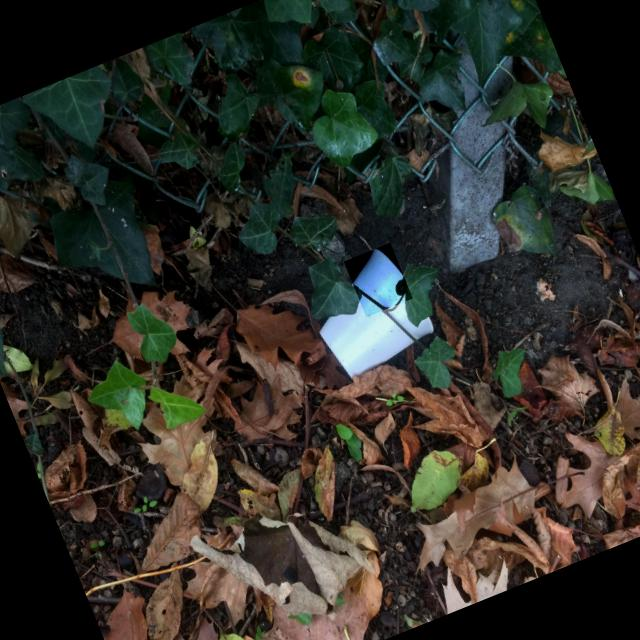Cup: (319, 294, 433, 380), (352, 249, 403, 308)
